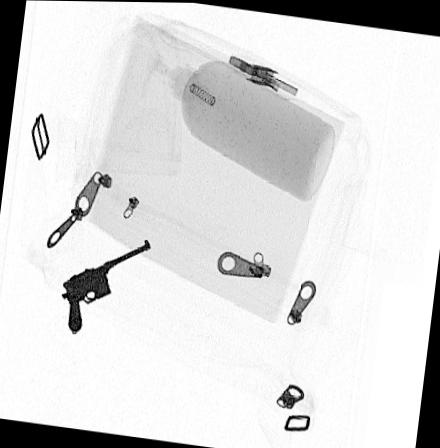Gun: (60, 238, 151, 331)
